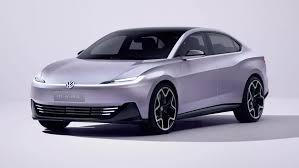volkswagen: (66, 81, 75, 89)
